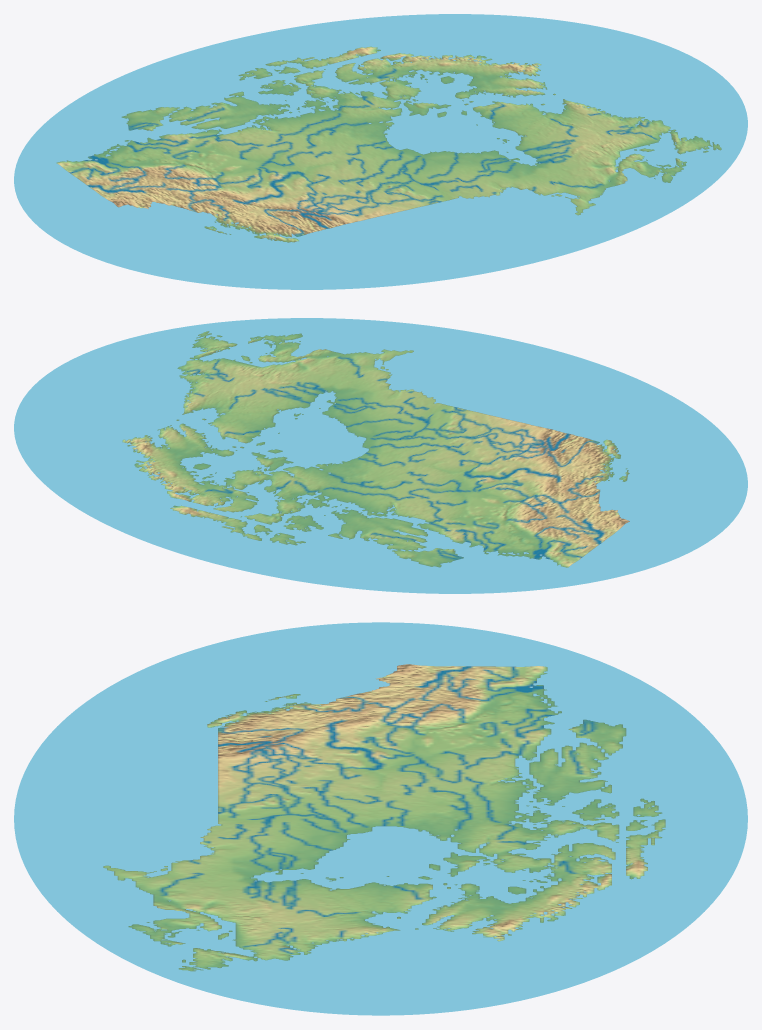
Rendered from CAN-terrain.glb.
3 views of the same model, one above another, from view 1: azimuth 30°, elevation 25°; view 2: azimuth 150°, elevation 25°; view 3: azimuth 270°, elevation 25° (orthographic). The views are drawn at different scales.
Visible parts, largest first — view 1: Relevo com hidrografia; view 2: Relevo com hidrografia; view 3: Relevo com hidrografia.
Part boxes in pixels (x1,y1,x2,y2): Relevo com hidrografia: (14, 14, 747, 289); Relevo com hidrografia: (14, 318, 747, 593); Relevo com hidrografia: (14, 622, 747, 1015).
Bounding box in the file's own units: 2.08 × 0.0119 × 1.64.
Materials: 2 (1 with a texture image).
